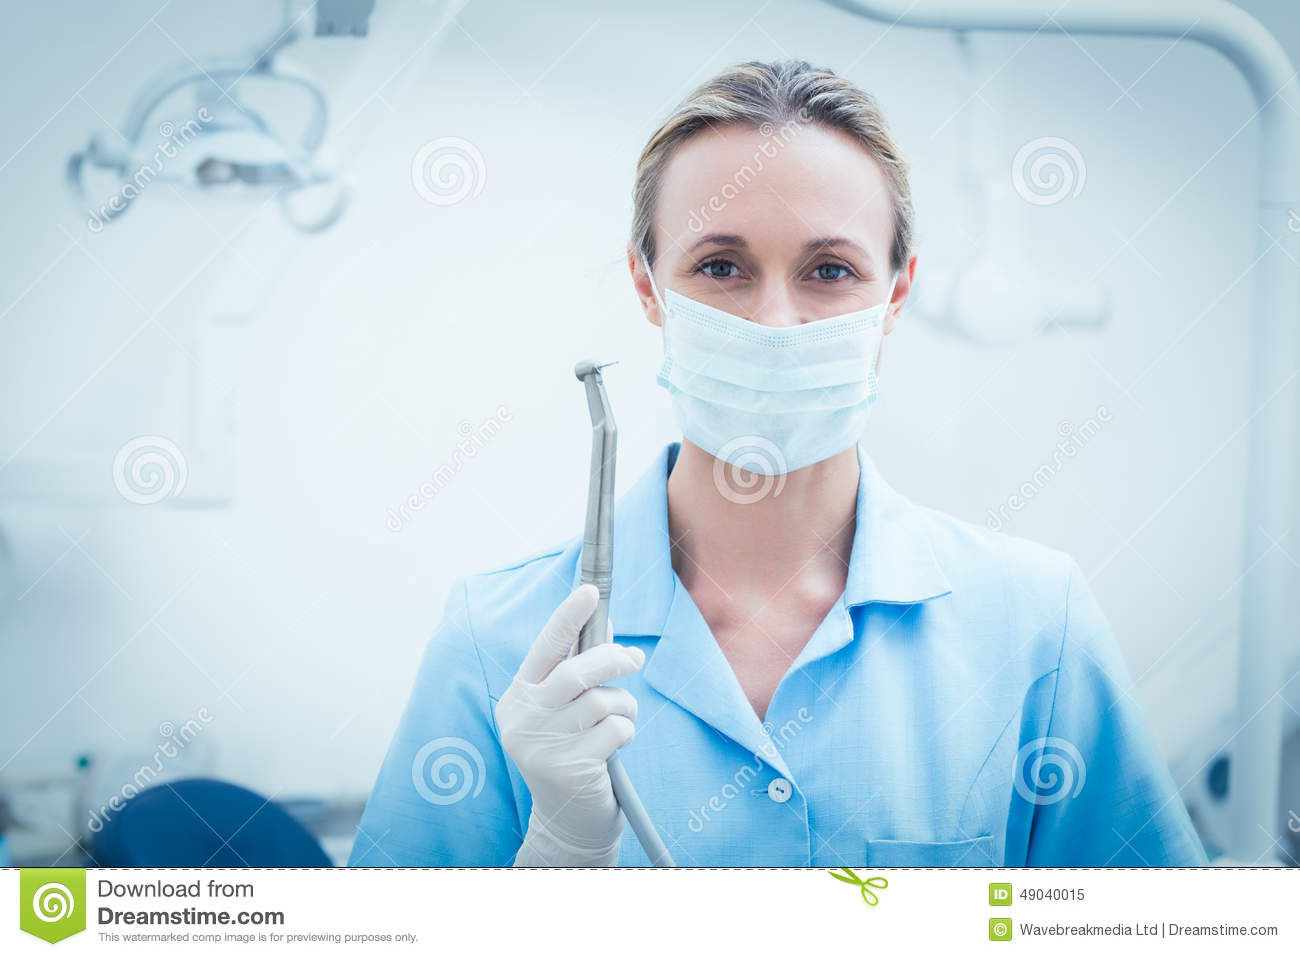mask: (642, 280, 904, 483)
